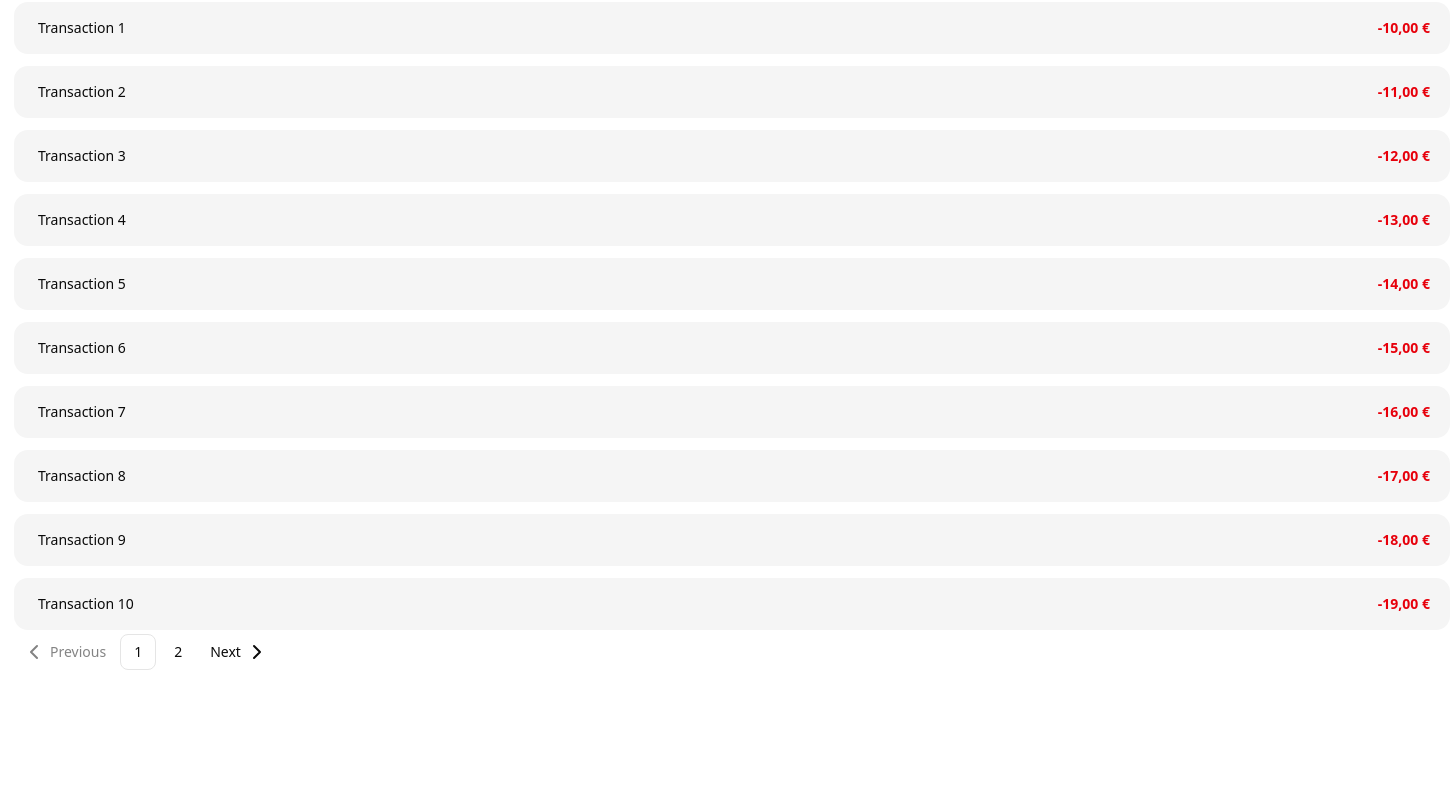
TransactionList › pagination › navigating to the next page shows the next set of transactions
The width and height of the screenshot is (1452, 810).
Check: the text "Transaction 1" is shown, box [38, 18, 126, 38]
Click the button with aria-label "Go to next page": click(239, 652) [200, 632, 279, 672]
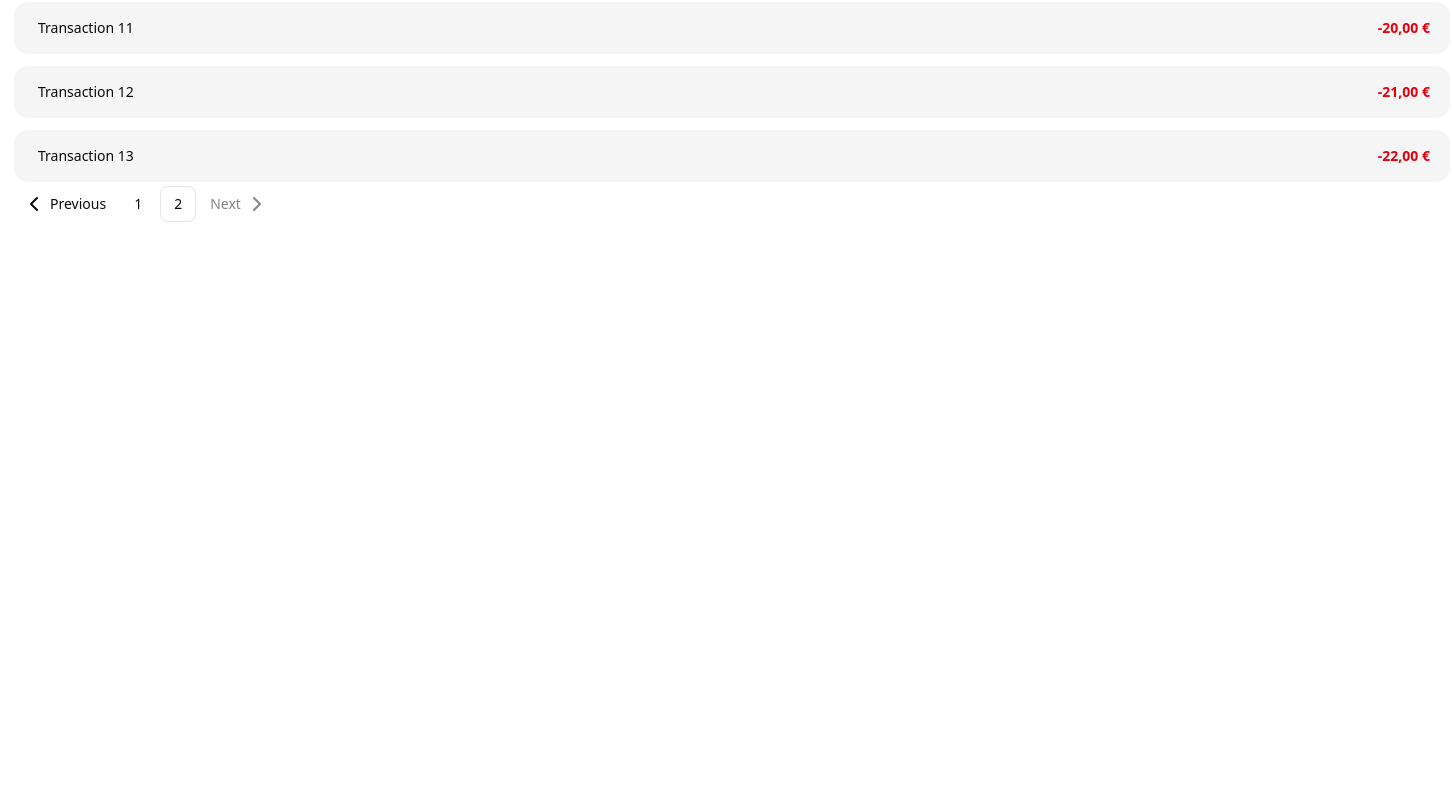
Check: the text "Transaction 11" is shown, box [38, 18, 134, 38]
